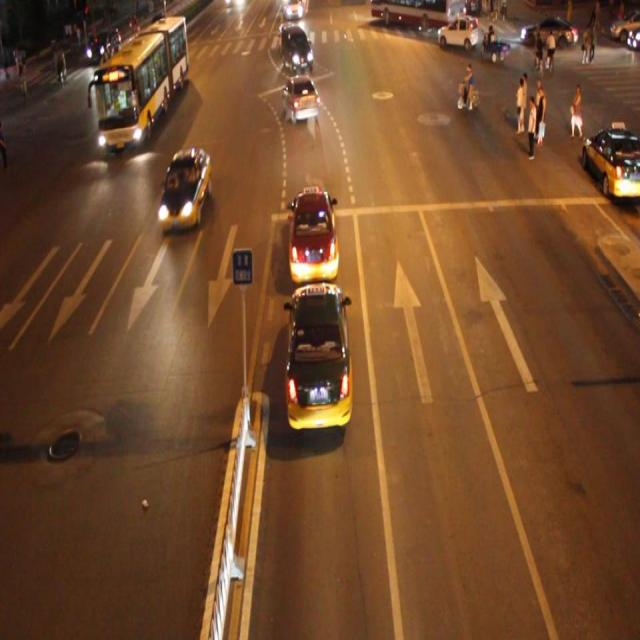car: (284, 281, 352, 429), (287, 188, 339, 284), (157, 148, 211, 229), (280, 73, 318, 124), (280, 28, 314, 75)
van: (94, 17, 187, 149)
